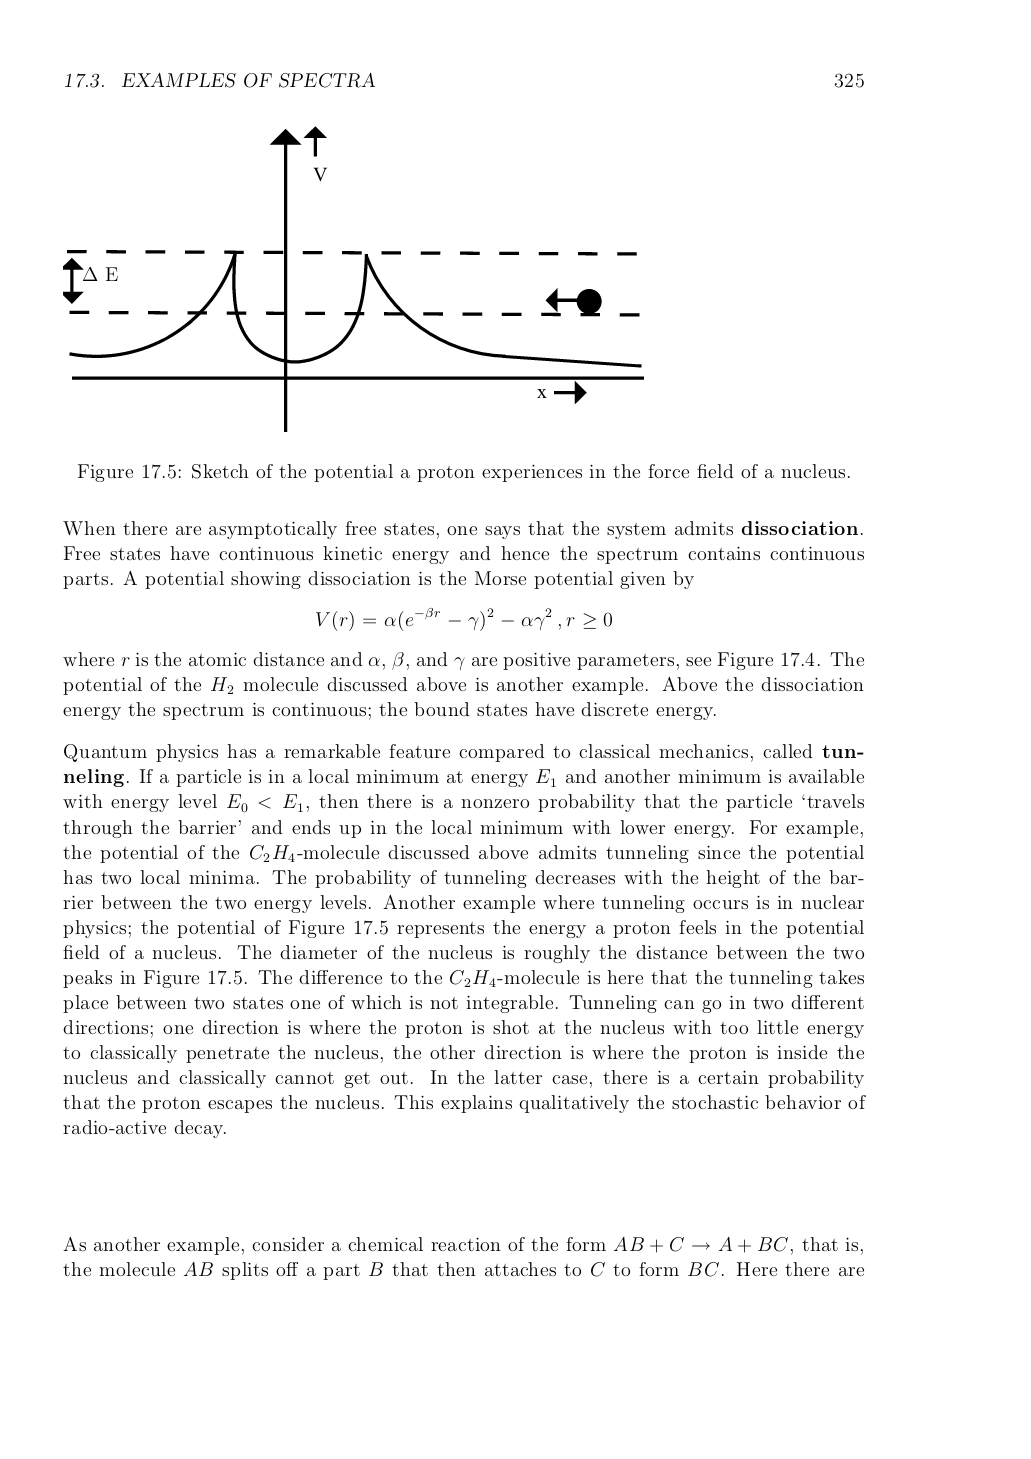figure: (62, 125, 643, 432)
formula: (316, 606, 611, 631)
